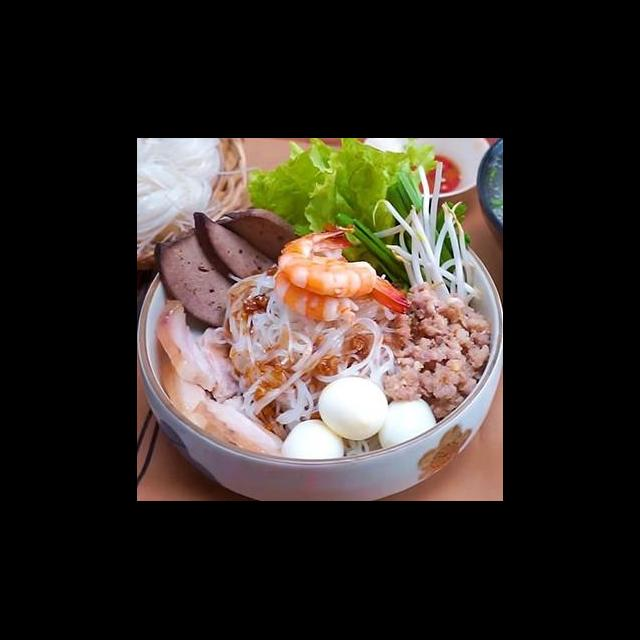banh hu tieu: (212, 270, 399, 430)
gan: (152, 230, 242, 332), (189, 210, 283, 282), (212, 206, 303, 262)
hu tieu: (140, 176, 496, 501)
thit bam: (380, 280, 495, 424)
thit heo: (150, 296, 253, 406)
tom: (270, 252, 415, 324), (275, 222, 377, 302)
trung: (316, 374, 391, 442), (377, 394, 442, 454), (280, 418, 346, 468)
